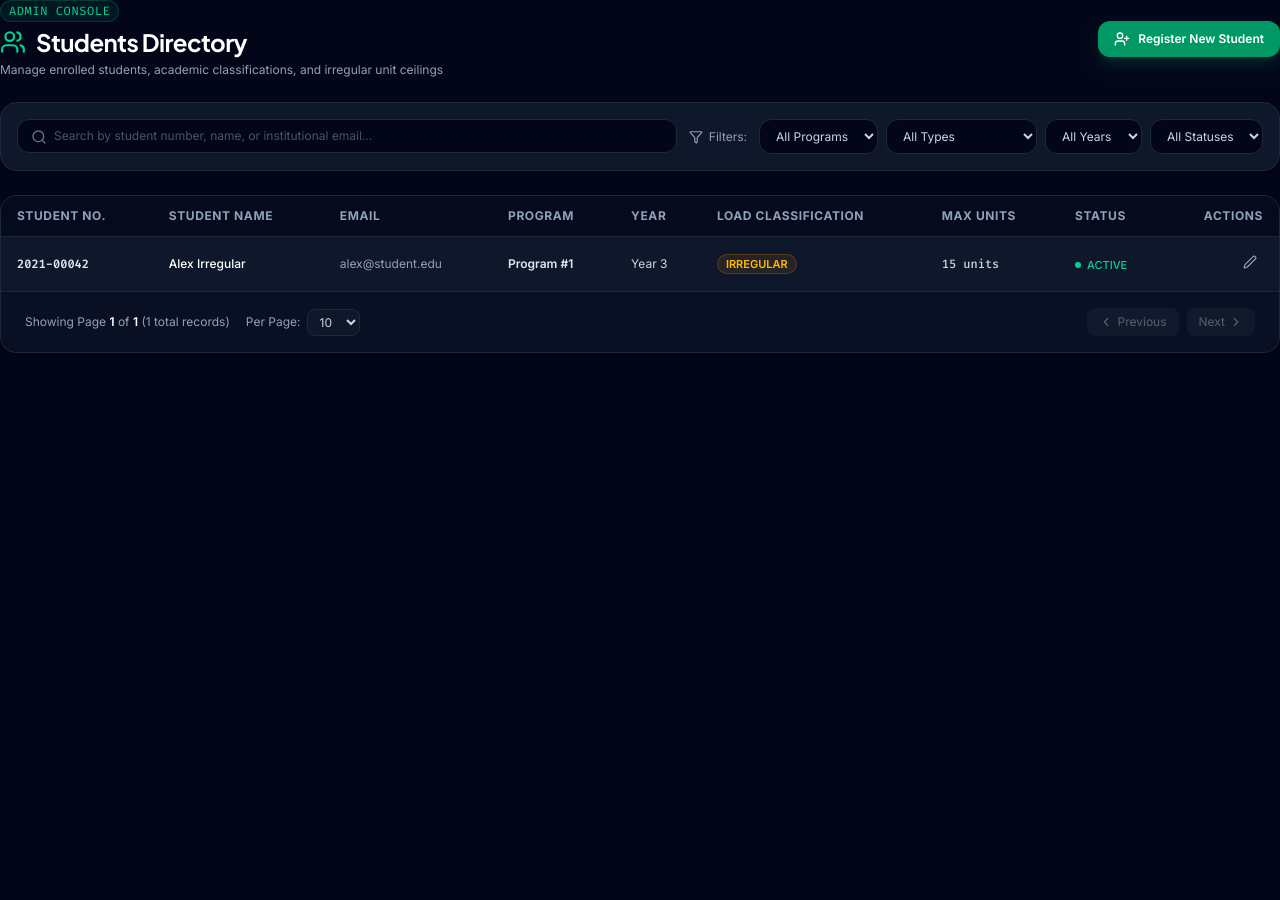
Integrated Application Flows › should display students directory with irregular load tags and allow registration
This screenshot has width=1280, height=900.
Expected: the heading "Students Directory" is shown, [0,27,247,57]
Expected: the text "2021-00042" is shown, [1,236,153,291]
Click the button "Register New Student". click: coordinates (1189, 39)
box: [1098,21,1279,57]
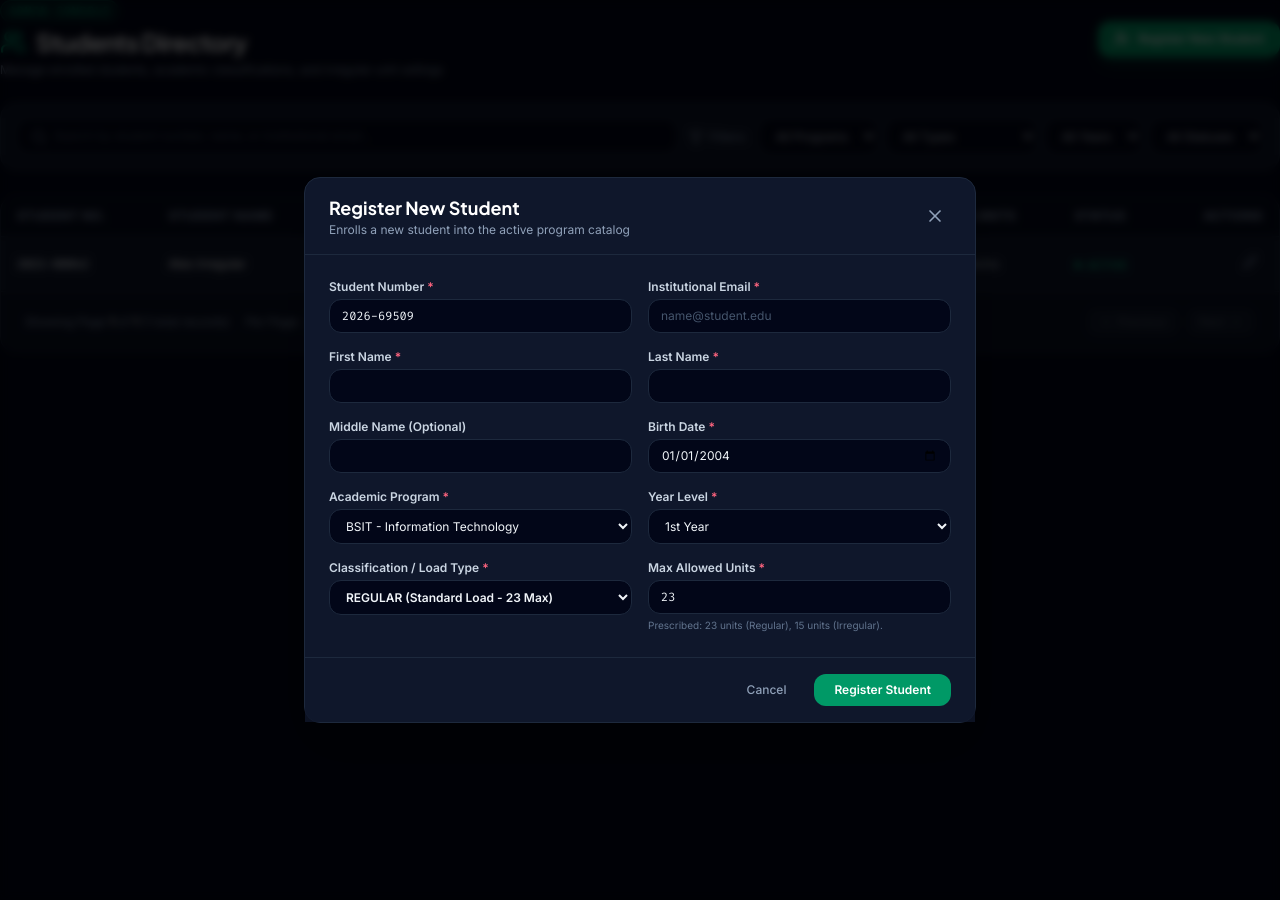
Now the heading "Register New Student" is shown, box [329,196,520,219]
